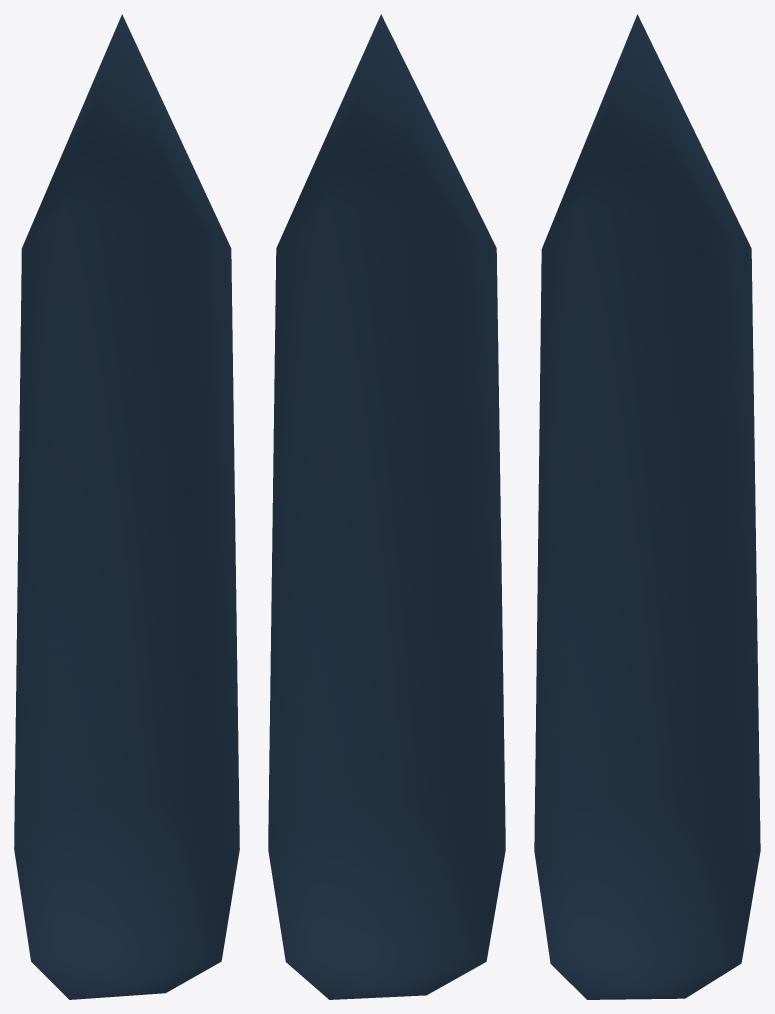
File: ice_spike_ink.glb
3 renders of one model, left to right at view 1: azimuth 30°, elevation 25°; view 2: azimuth 150°, elevation 25°; view 3: azimuth 270°, elevation 25°, orthographic.
Parts seen in each view (by area): view 1: ice_spike_ink; view 2: ice_spike_ink; view 3: ice_spike_ink.
Part boxes in pixels (left/top/right/bottom): ice_spike_ink: left=14, top=14, right=239, bottom=999; ice_spike_ink: left=268, top=14, right=505, bottom=999; ice_spike_ink: left=534, top=14, right=760, bottom=999.
Size of the model in its own units: 0.594 by 3.04 by 0.6398.
